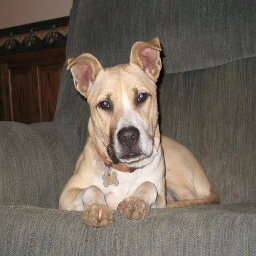dog: (55, 38, 222, 222)
